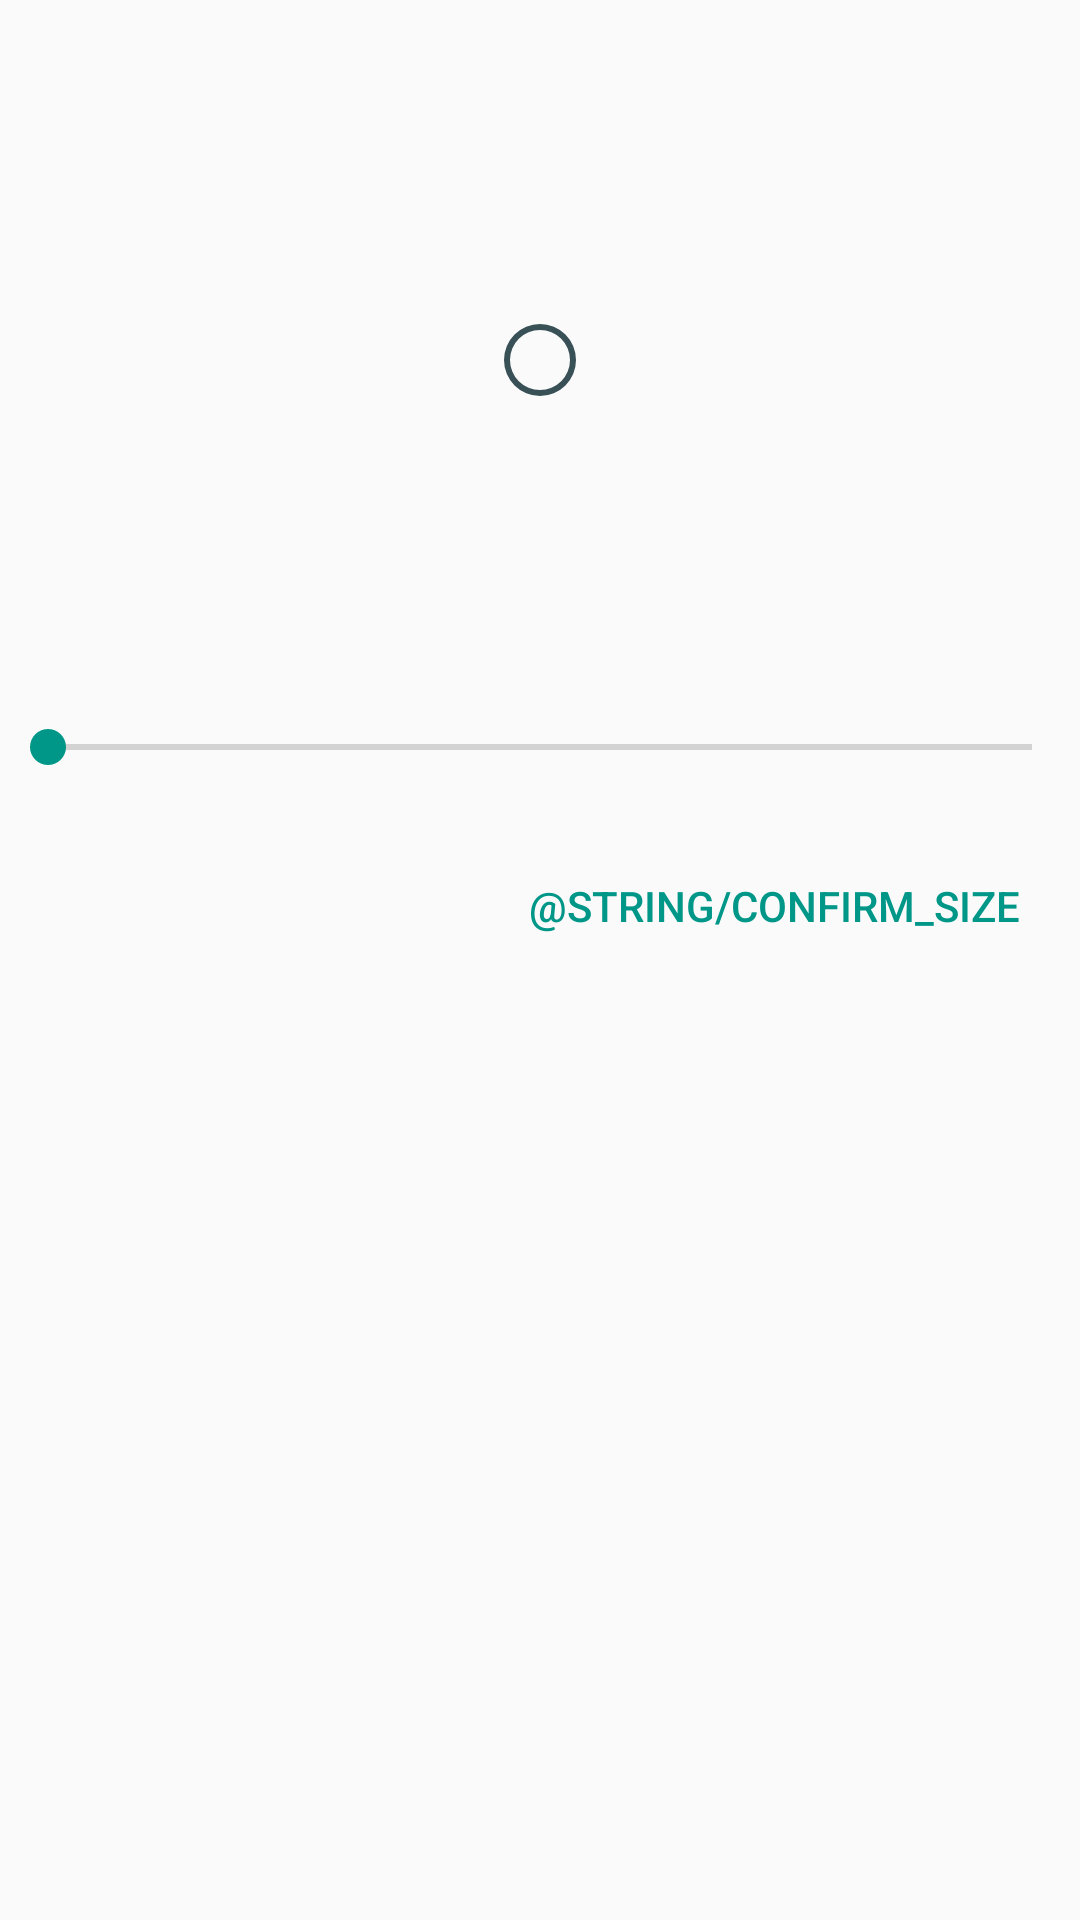

Where to tap for icons on this 1080px×1920px app screen, as (x,y):
brush size: (540,360)
